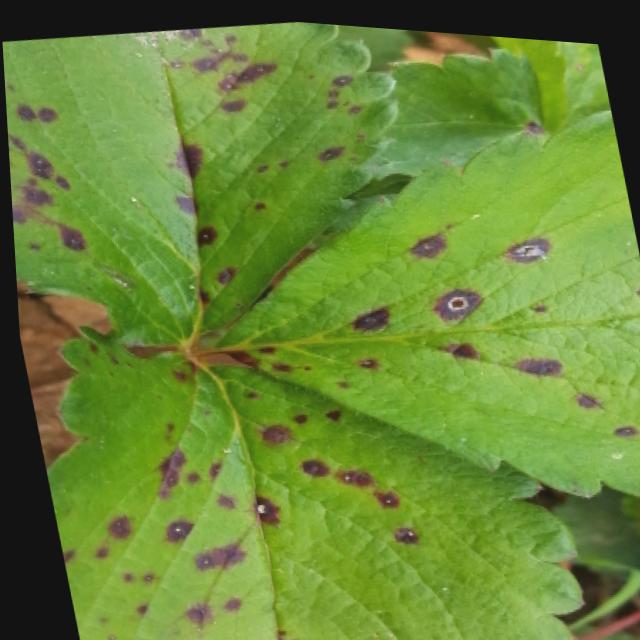Leaf Spot: (196, 100, 640, 492), (39, 322, 579, 640), (2, 17, 399, 352), (322, 37, 544, 234), (336, 20, 414, 58)
